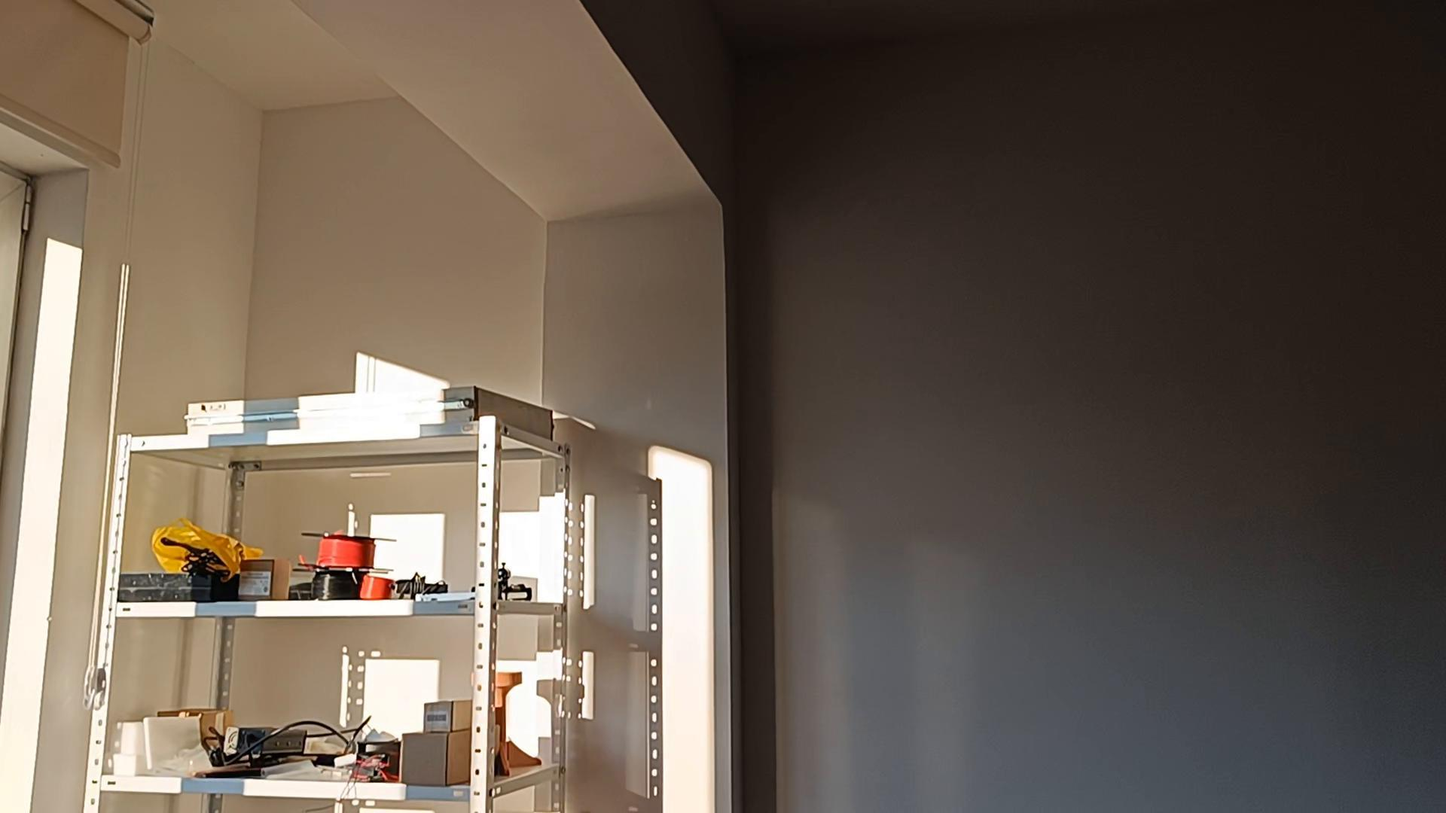ceiling: (148, 0, 709, 221), (720, 4, 1327, 54)
wall: (109, 11, 1445, 812)
